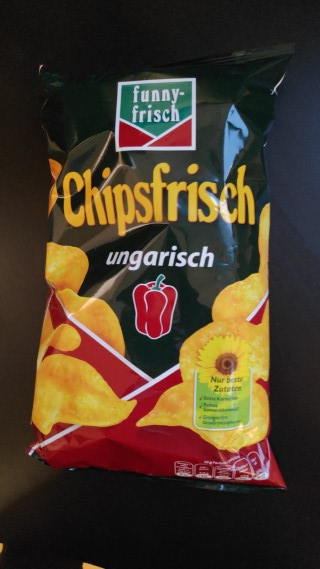chipsfrisch: (22, 39, 296, 498)
